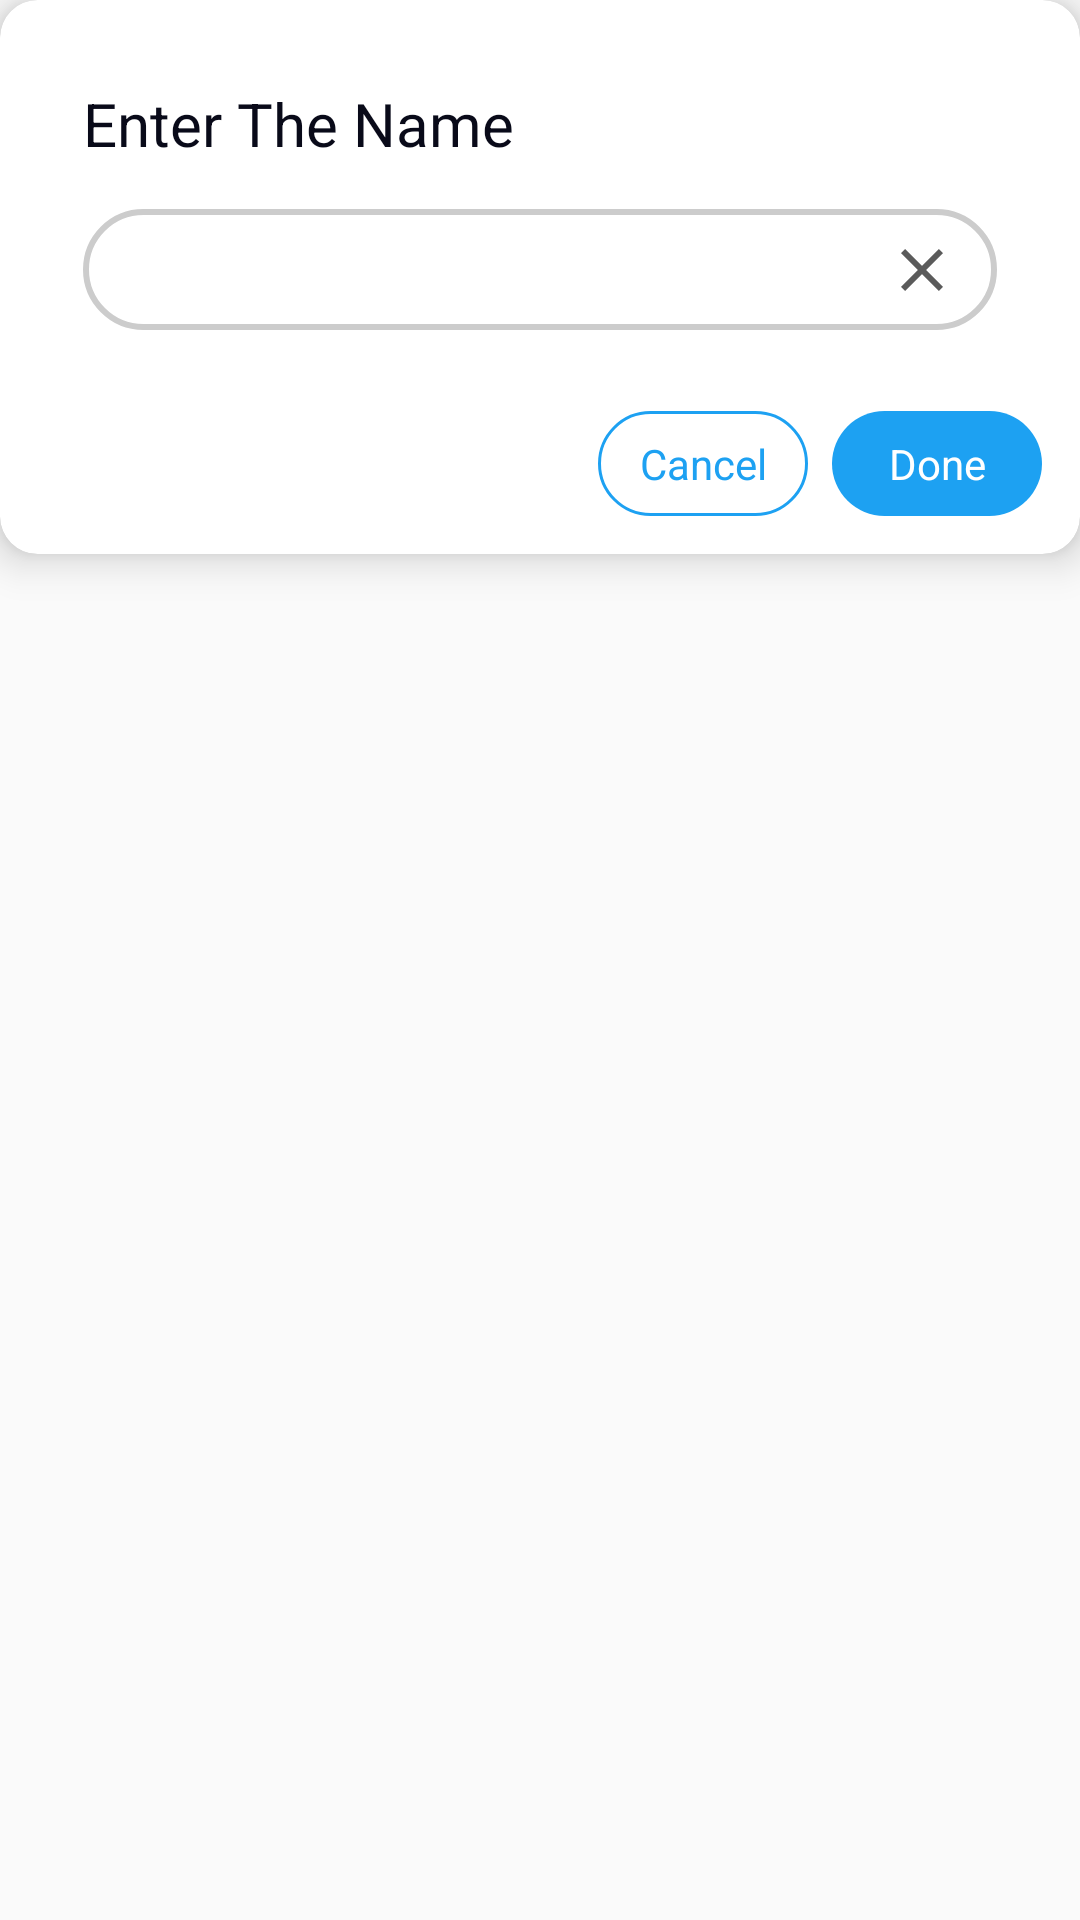

Where to tap for icons on this 1080*1920 app screen, as [x,y]:
close: [922,270]
